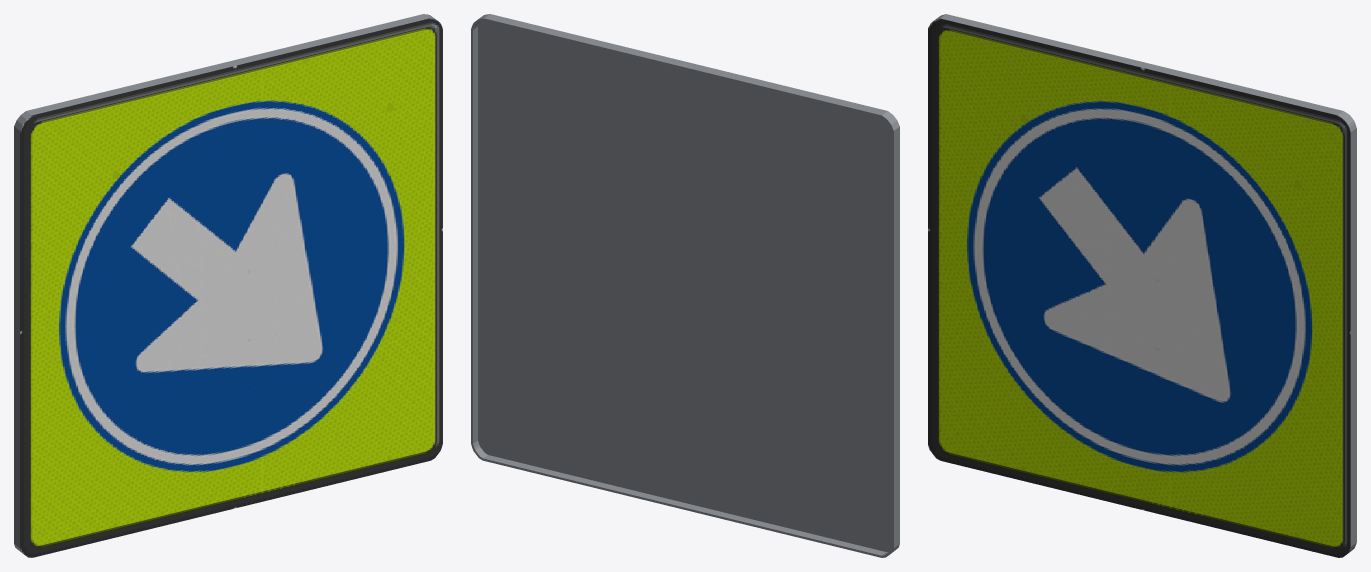
The picture shows the model from 3 angles, left to right: view 1: azimuth 30°, elevation 25°; view 2: azimuth 150°, elevation 25°; view 3: azimuth 330°, elevation 25°; orthographic projection.
Parts seen in each view (by area): view 1: cat_d16c3918b4054ef7; view 2: cat_d16c3918b4054ef7; view 3: cat_d16c3918b4054ef7.
Boxes of the visible parts, x1=… form: cat_d16c3918b4054ef7: x1=14, y1=14, x2=442, y2=557; cat_d16c3918b4054ef7: x1=471, y1=14, x2=899, y2=557; cat_d16c3918b4054ef7: x1=928, y1=14, x2=1356, y2=557.
Bounding box in the file's own units: 0.6 × 0.015 × 0.6.
Materials: 2 (1 with a texture image).
